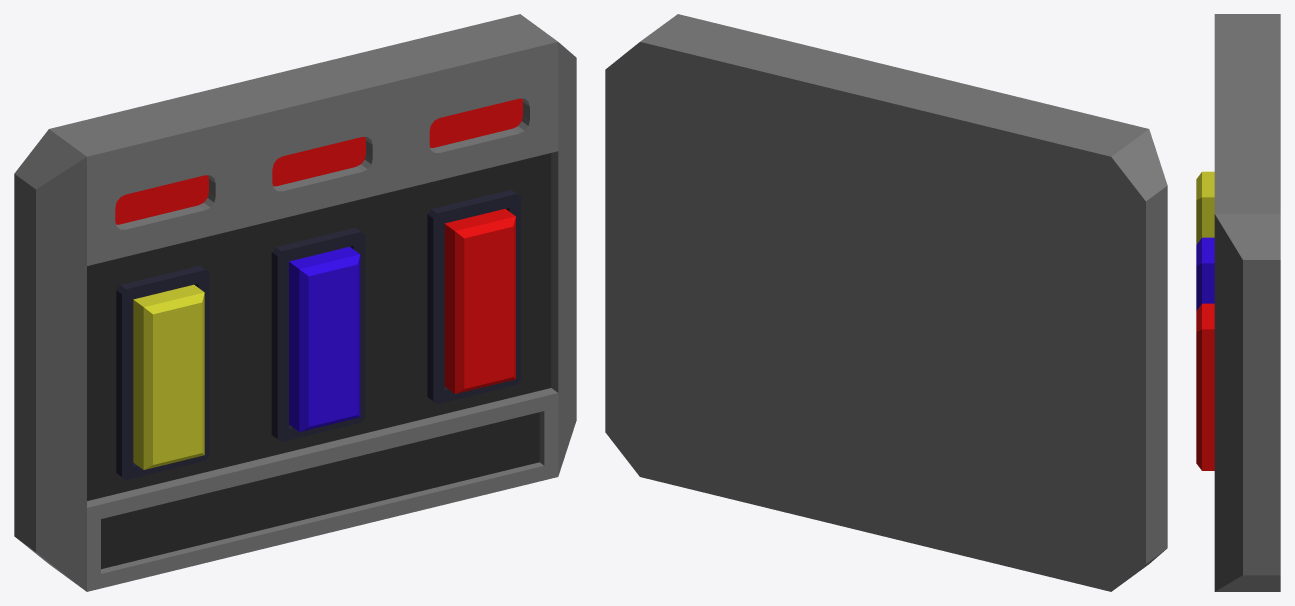
Rendered from Button_2.fbx.
3 views of the same model, side by side, from view 1: azimuth 30°, elevation 25°; view 2: azimuth 150°, elevation 25°; view 3: azimuth 270°, elevation 25° (orthographic). The views are drawn at different scales.
Parts seen in each view (by area): view 1: Cube.010, Cube.015, Cube.014, Cube.016; view 2: Cube.010; view 3: Cube.010, Cube.016, Cube.015, Cube.014.
Part boxes in pixels (<box>): Cube.010: <box>14,14,576,591</box>; Cube.015: <box>133,284,204,469</box>; Cube.014: <box>289,246,360,431</box>; Cube.016: <box>444,208,515,393</box>; Cube.010: <box>605,14,1167,591</box>; Cube.010: <box>1214,14,1280,591</box>; Cube.016: <box>1196,303,1214,470</box>; Cube.015: <box>1196,171,1214,244</box>; Cube.014: <box>1196,237,1214,310</box>.
Size of the model in its own units: 24.45 by 18.8 by 3.81.
